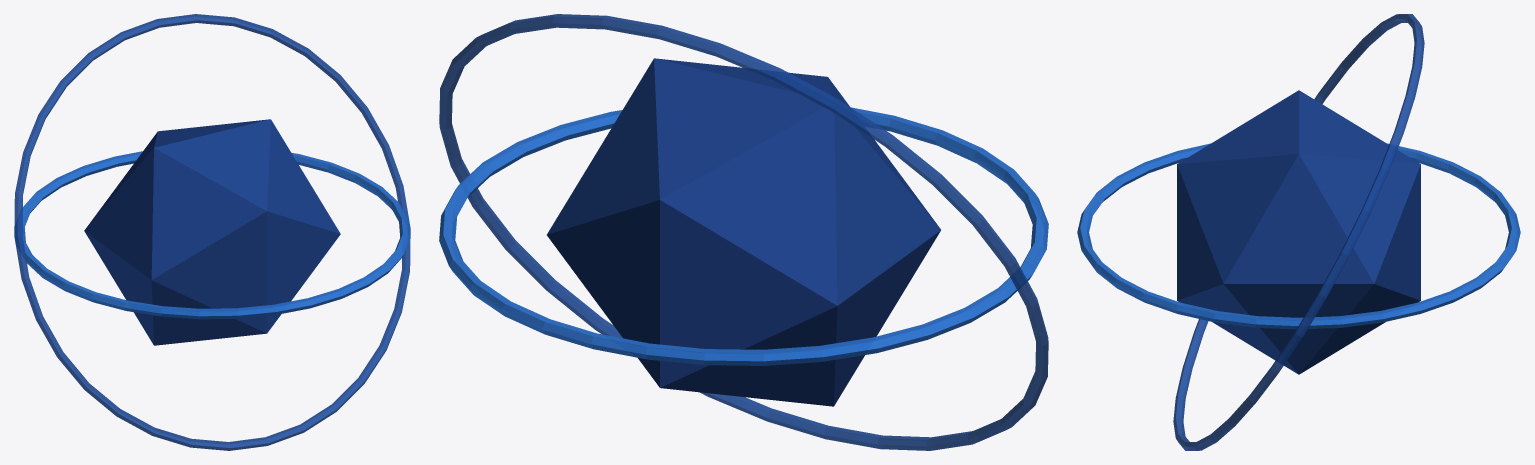
File: llm_entity.obj
3 views of the same model, side by side, from view 1: azimuth 30°, elevation 25°; view 2: azimuth 150°, elevation 25°; view 3: azimuth 270°, elevation 25° (orthographic). The views are drawn at different scales.
Visible parts, largest first — view 1: CoreIcosahedron, OrbitalRing2, OrbitalRing1; view 2: CoreIcosahedron, OrbitalRing2, OrbitalRing1; view 3: CoreIcosahedron, OrbitalRing1, OrbitalRing2.
Boxes of the visible parts, left/top/right/bottom form: CoreIcosahedron: left=84, top=119, right=340, bottom=345; OrbitalRing2: left=14, top=14, right=410, bottom=450; OrbitalRing1: left=22, top=151, right=410, bottom=319; CoreIcosahedron: left=547, top=58, right=940, bottom=406; OrbitalRing2: left=439, top=14, right=1048, bottom=450; OrbitalRing1: left=439, top=107, right=1048, bottom=365; CoreIcosahedron: left=1177, top=90, right=1420, bottom=374; OrbitalRing1: left=1077, top=143, right=1520, bottom=329; OrbitalRing2: left=1173, top=14, right=1424, bottom=450.
Size of the model in its own units: 2.92 by 2.53 by 2.63.
